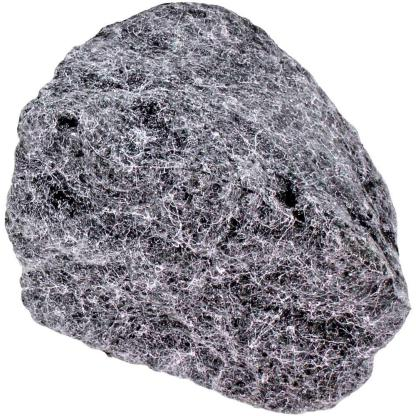Igneous_Granite: (2, 6, 416, 416)
